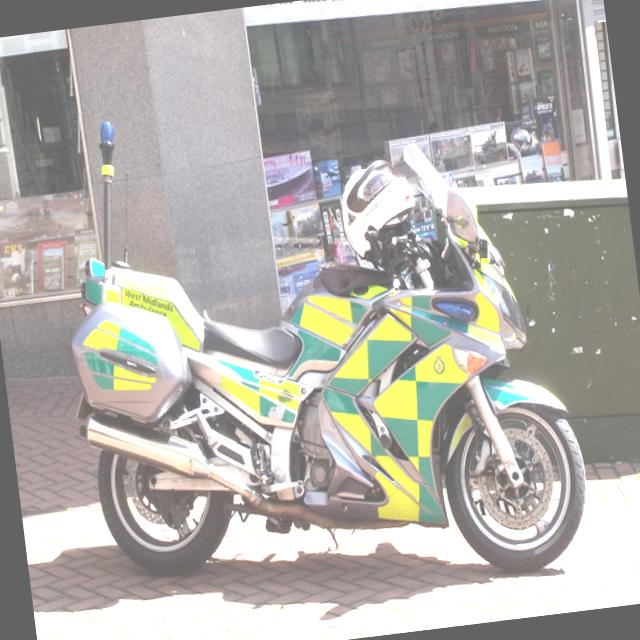Vehicle: (39, 58, 600, 624)
